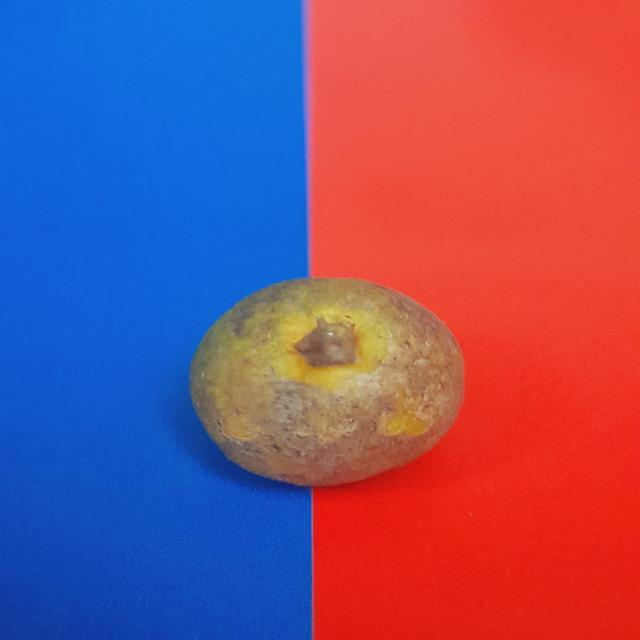thrips: (181, 269, 476, 486)
